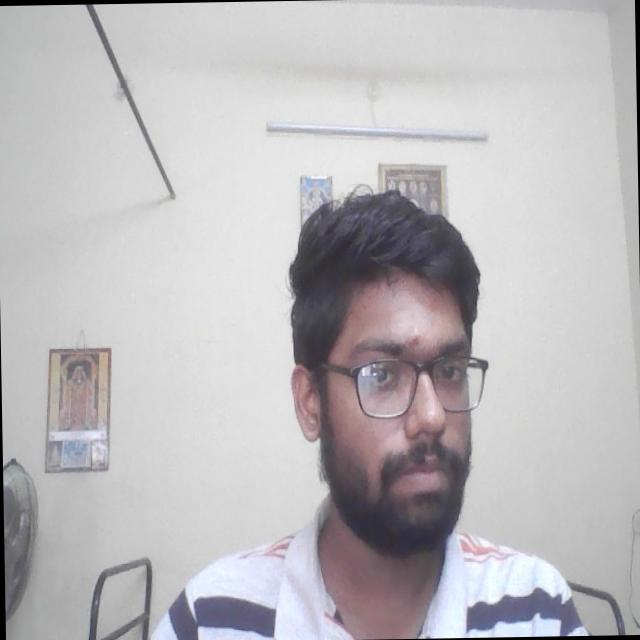Focused: (344, 303, 493, 510)
